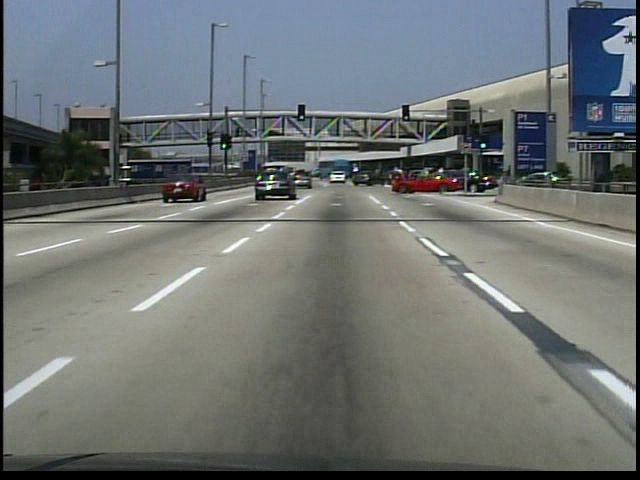person: (235, 128, 241, 140)
